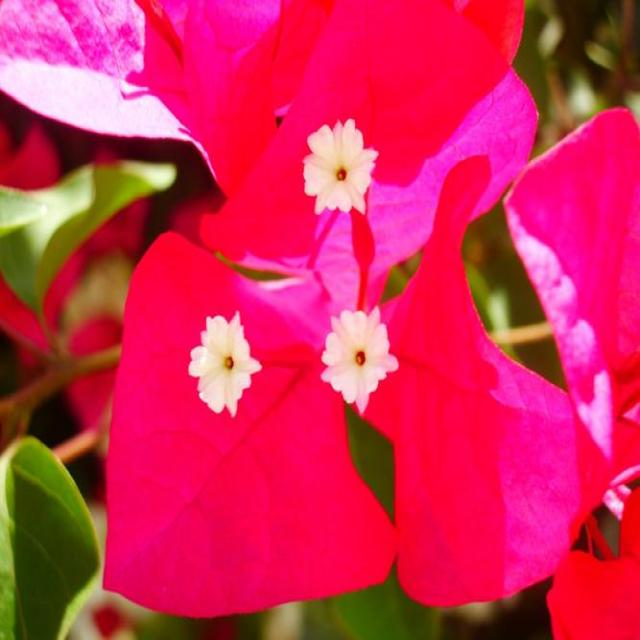bougainvillea: (67, 19, 603, 640)
